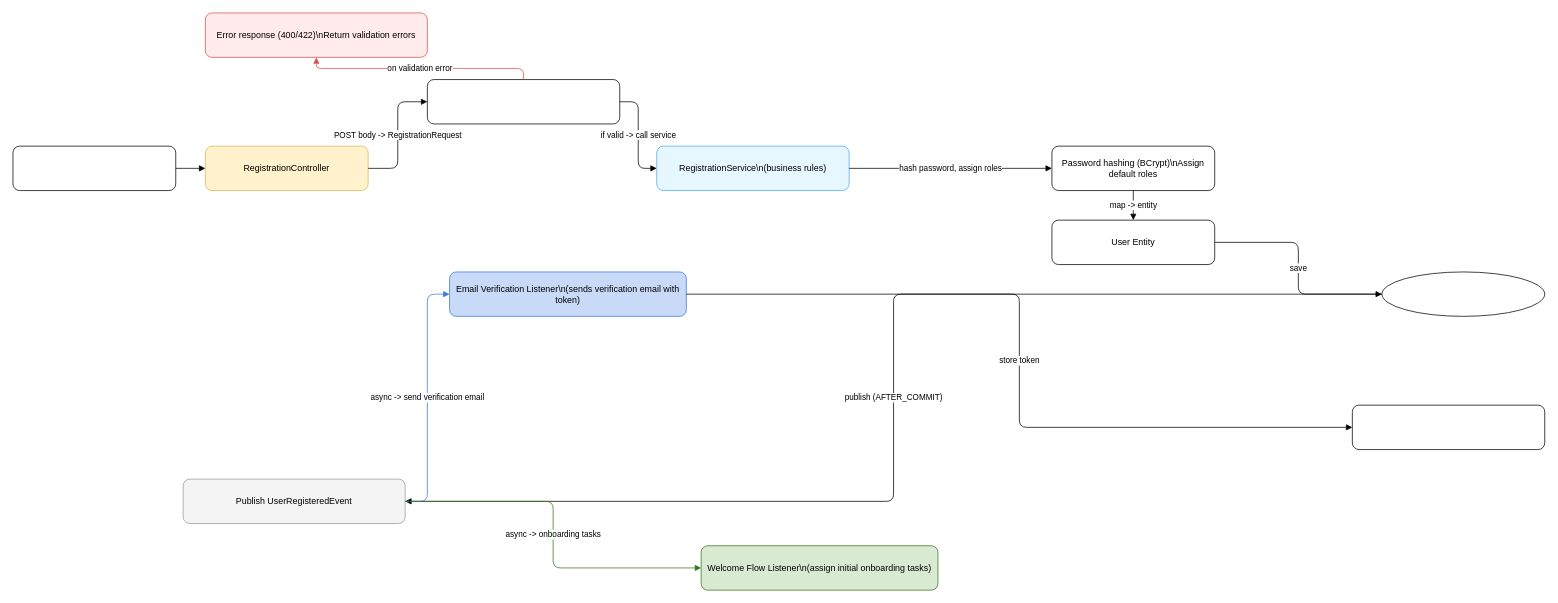
Some shapes in this 1558 by 603 pixel diagram are drawn without their labels. The shapes that lost their labels are listed below. From the top down, each one's box as (x1, y1, x2, y2) in pixels, then its label:
(427, 79, 620, 124): Validate DTO (@Valid)\nChecks: name, email, password, phone
(12, 145, 176, 191): User / Client (POST /api/register)
(1381, 271, 1545, 316): Database (users table)
(1352, 404, 1545, 450): Verification Token Table\n(user_id, token, expires_at)
